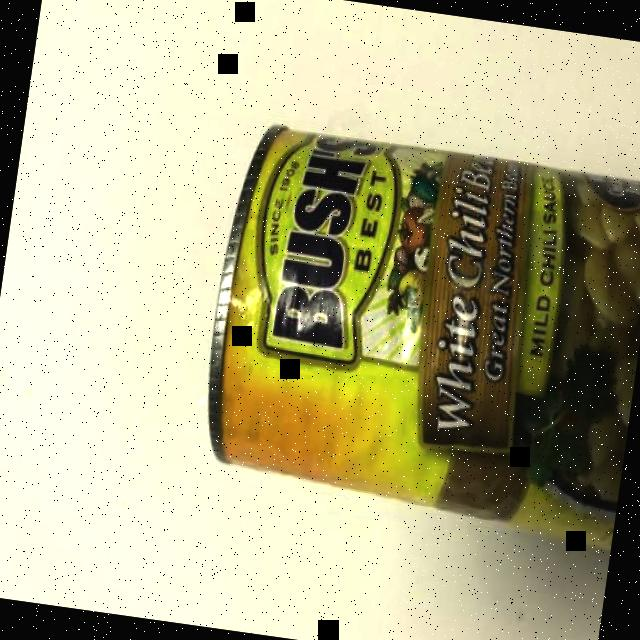can: (184, 114, 640, 555)
